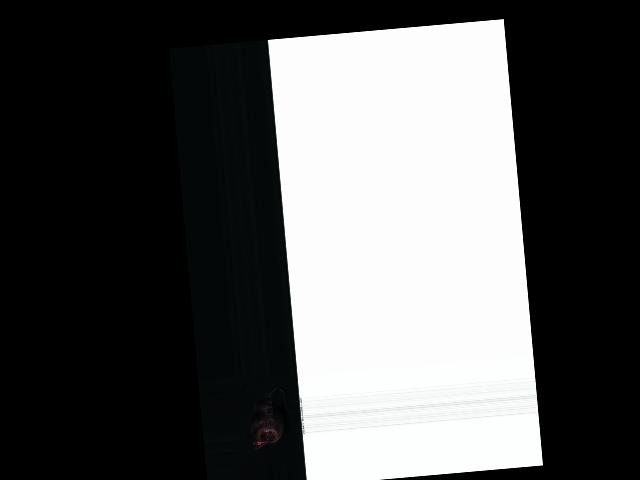beet: (247, 387, 293, 452)
